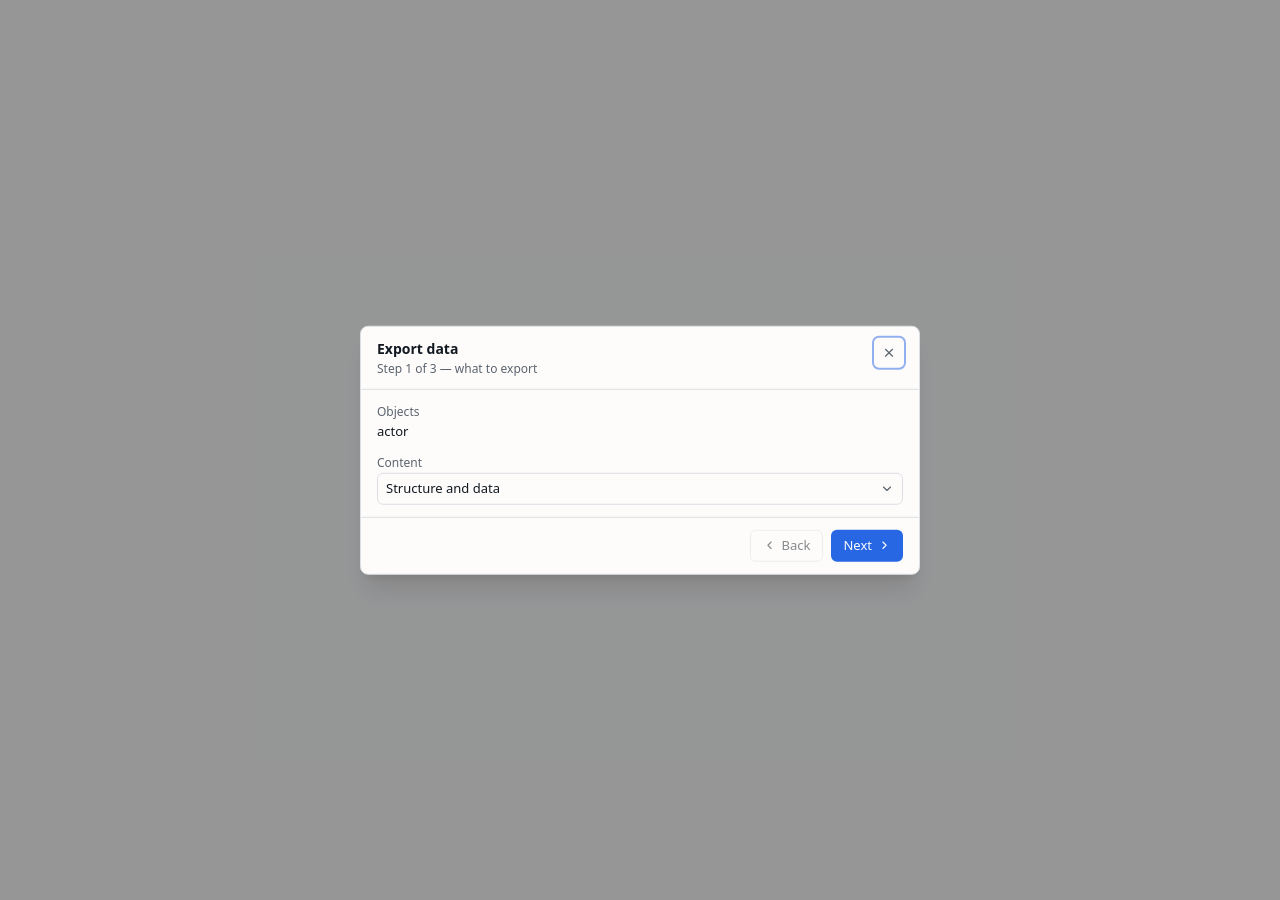
Test: ExportWizard › shows the error of a refused export
The image size is (1280, 900).
Click the button "Next". click: (867, 545)
box: left=832, top=529, right=903, bottom=561
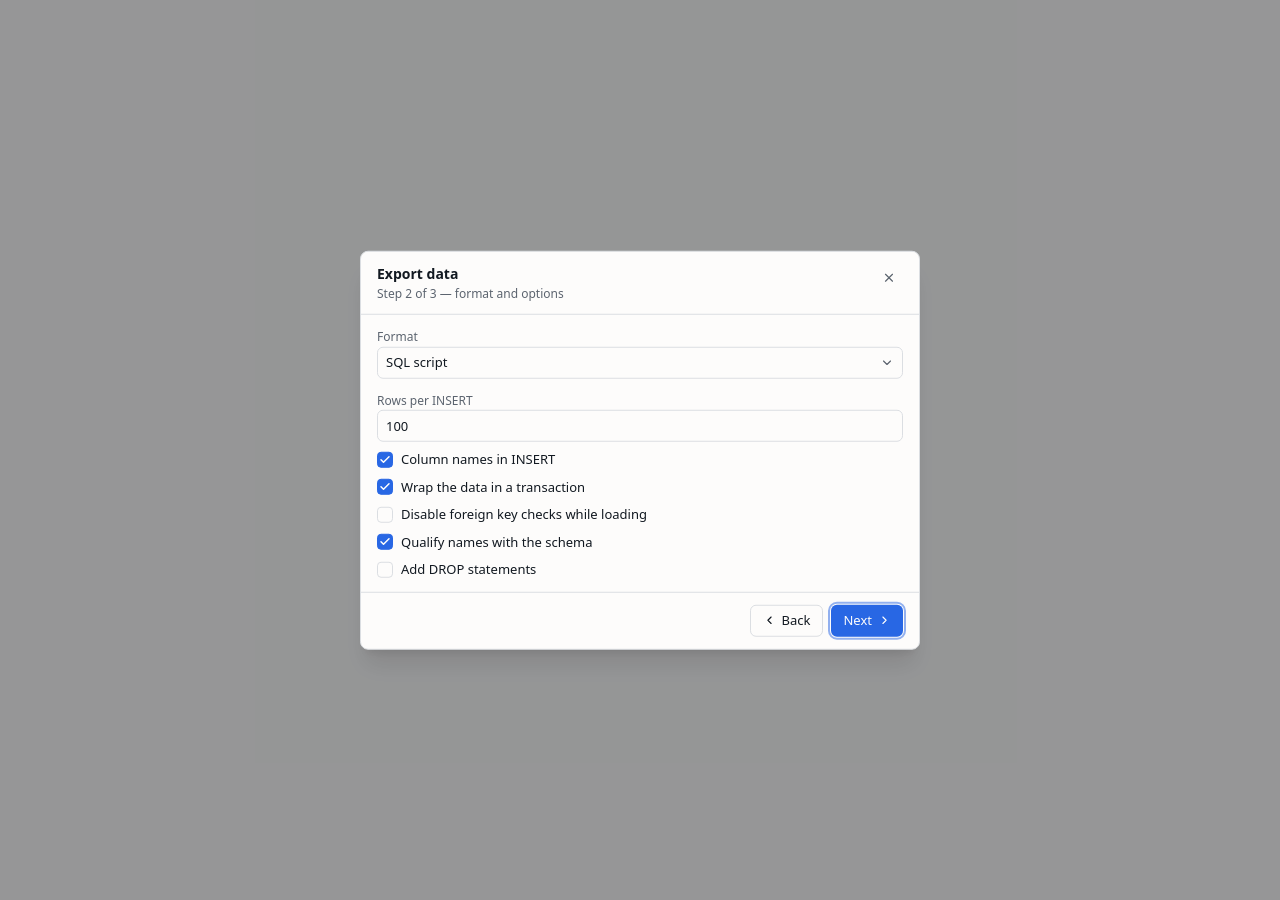
Click the button "Next". click: (867, 620)
box: left=832, top=604, right=903, bottom=636
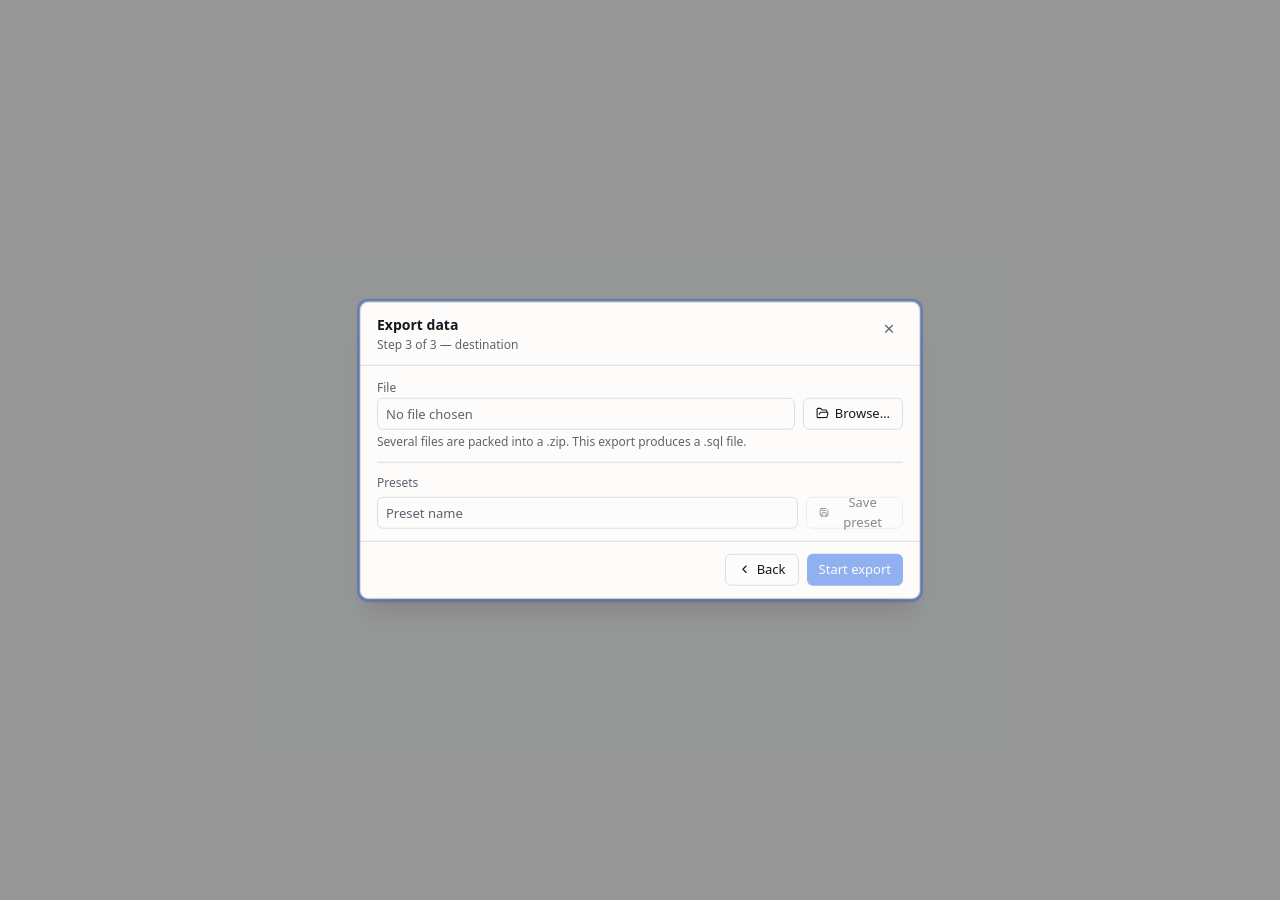
Click the button "Browse…". click: (853, 413)
box: left=803, top=397, right=903, bottom=429
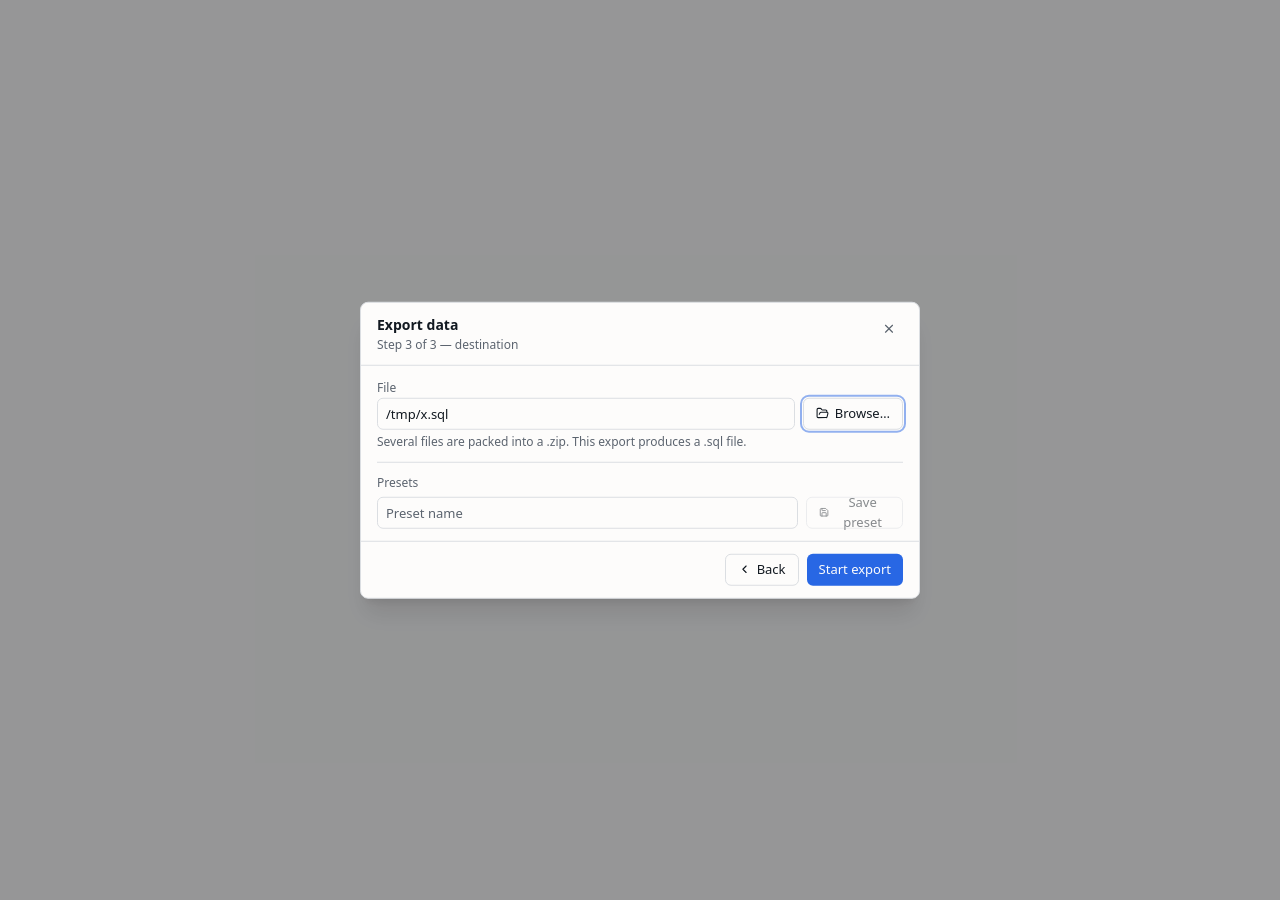
Click the button "Start export". click: (855, 569)
box: left=807, top=553, right=903, bottom=585
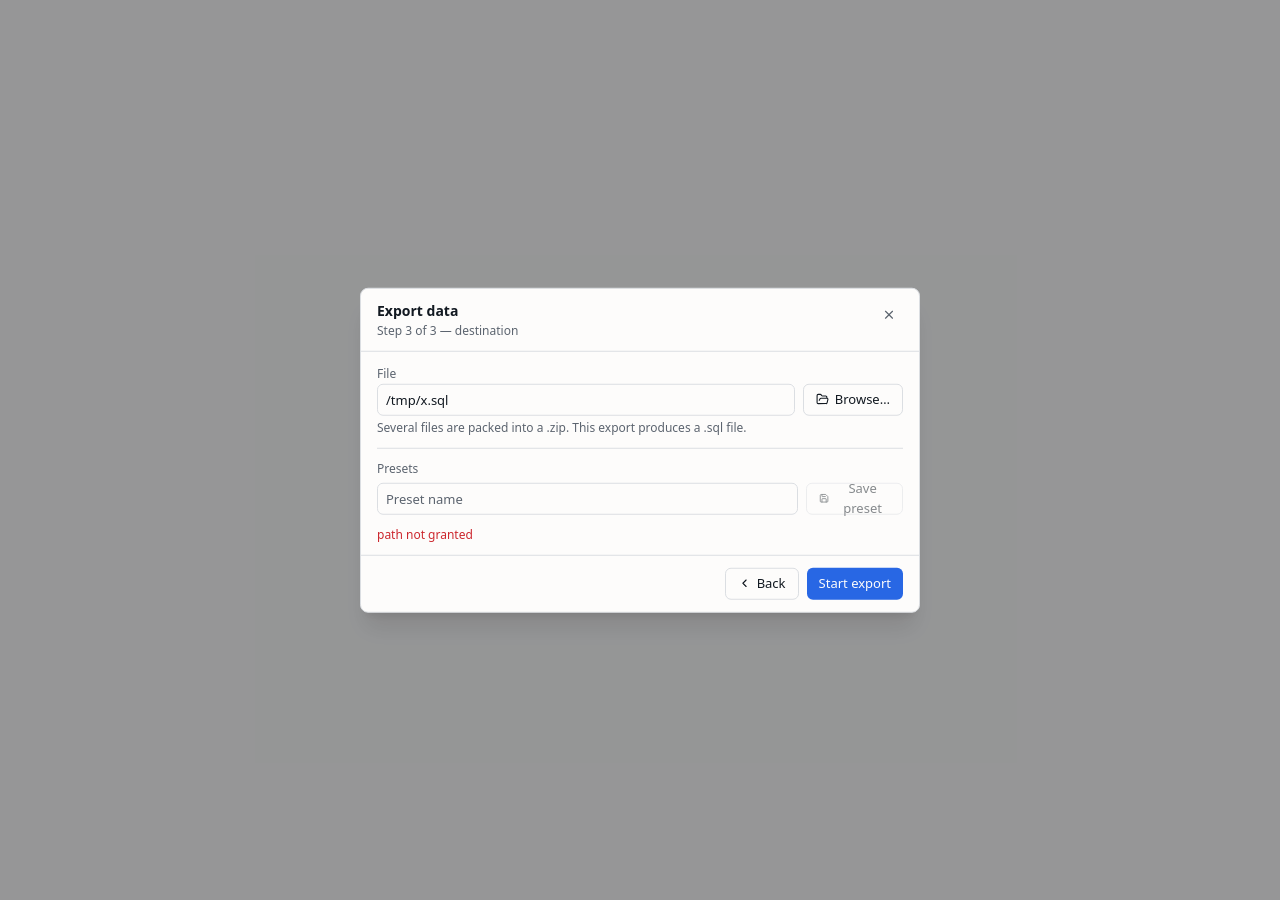
Result: the message reads "path not granted" at left=377, top=525, right=473, bottom=542
